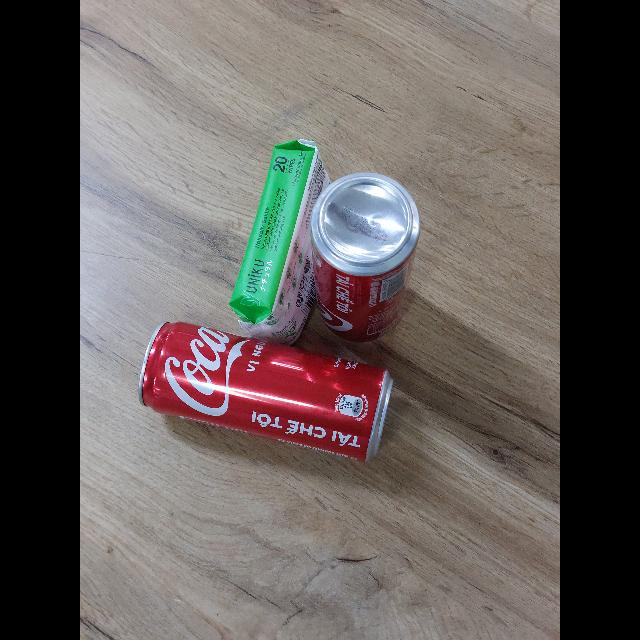coca_cola: (140, 322, 393, 464), (310, 172, 421, 343)
khan_giay: (229, 141, 328, 340)
